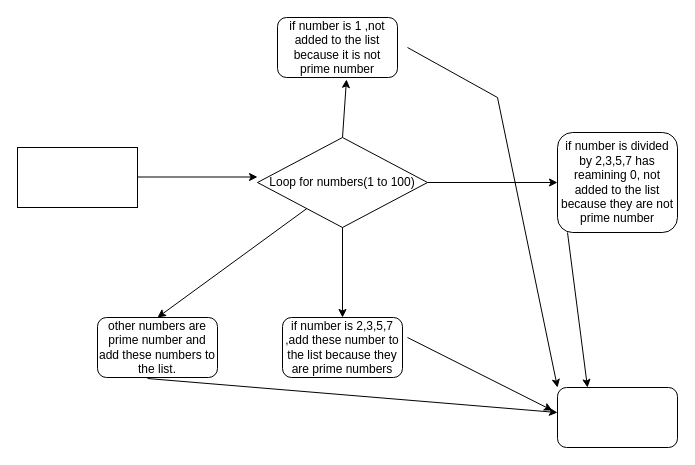
The diagram is 695 pixels wide and 465 high, and some of its shapes have lost their labels. The centre of each missing label's shape, as x and y in pixels:
"display all prime numbers." goes at (617,417).
"Empty list created" goes at (77,177).
